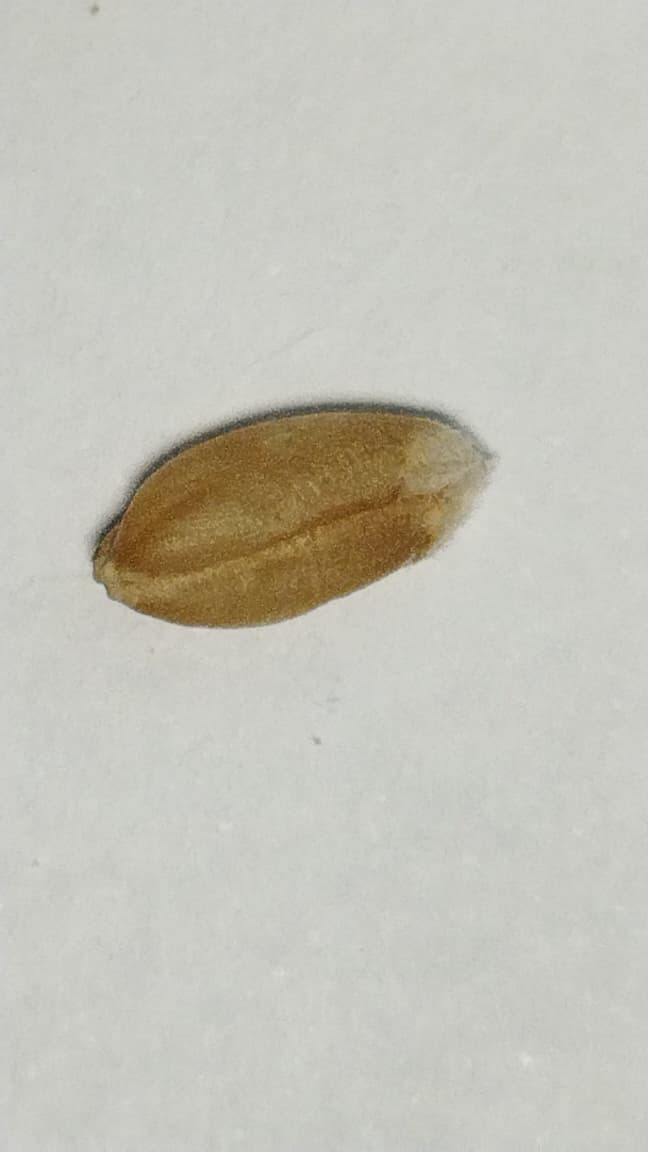healthy: (95, 407, 494, 626)
